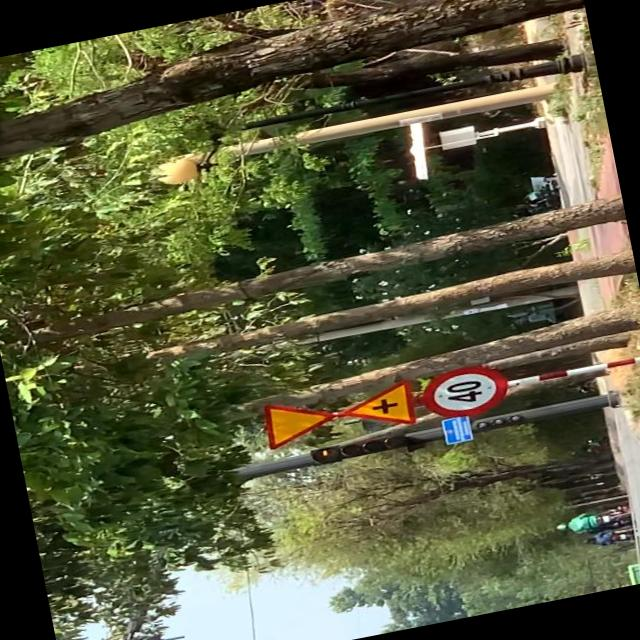P-127: (416, 360, 512, 424)
W-205a: (336, 380, 419, 438)
W-208: (259, 391, 339, 452)
